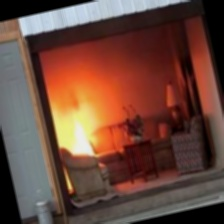fire: (43, 98, 102, 164)
